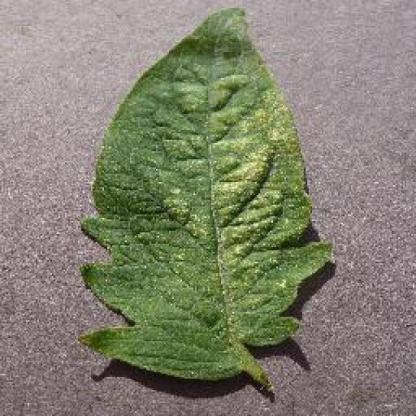Tomato_Spider_Mites: (81, 9, 328, 381)
